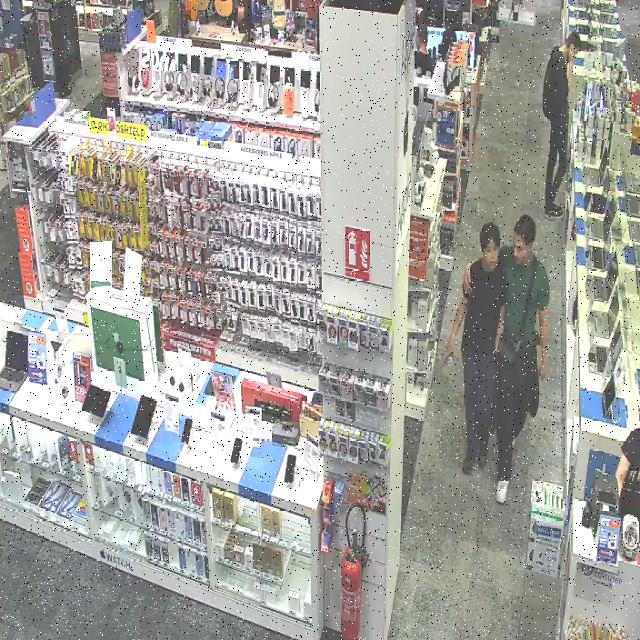bags: (498, 263, 536, 363)
hands: (441, 341, 456, 366), (463, 263, 471, 292), (538, 362, 548, 380), (569, 45, 578, 61)
person: (495, 214, 549, 503), (445, 222, 505, 473), (543, 31, 579, 219)
